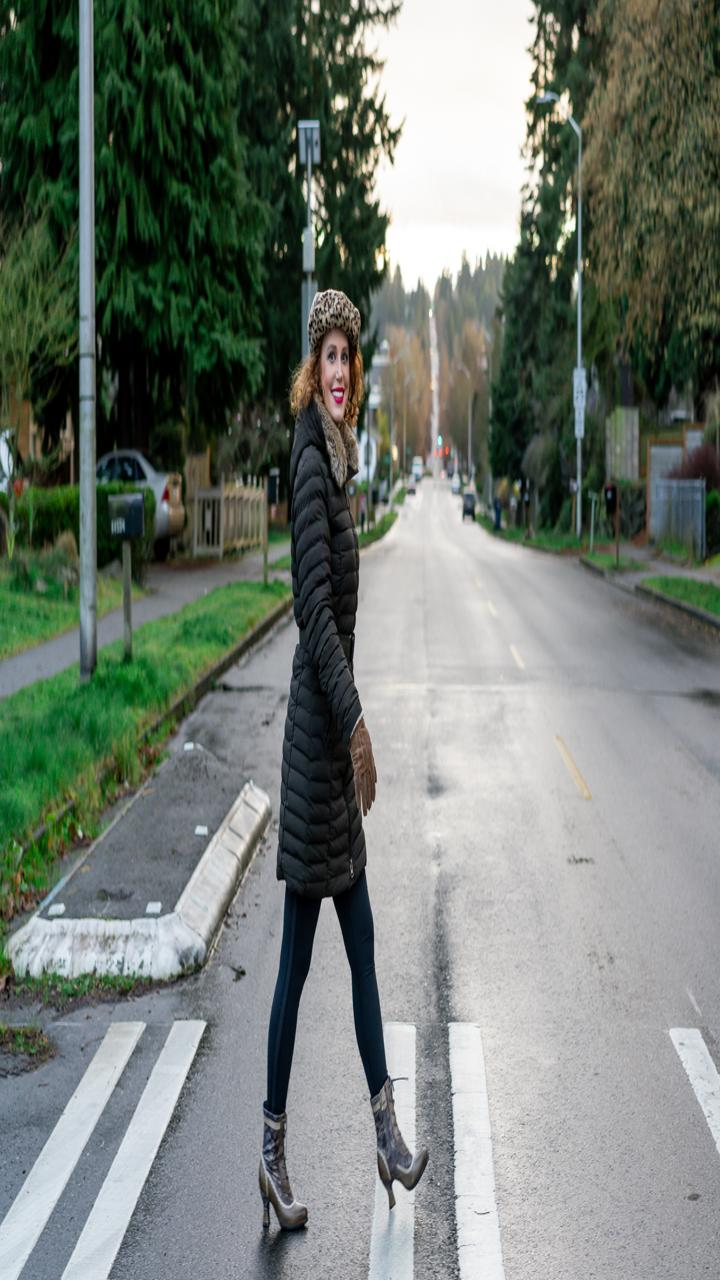pedestrian: (230, 275, 483, 1247)
